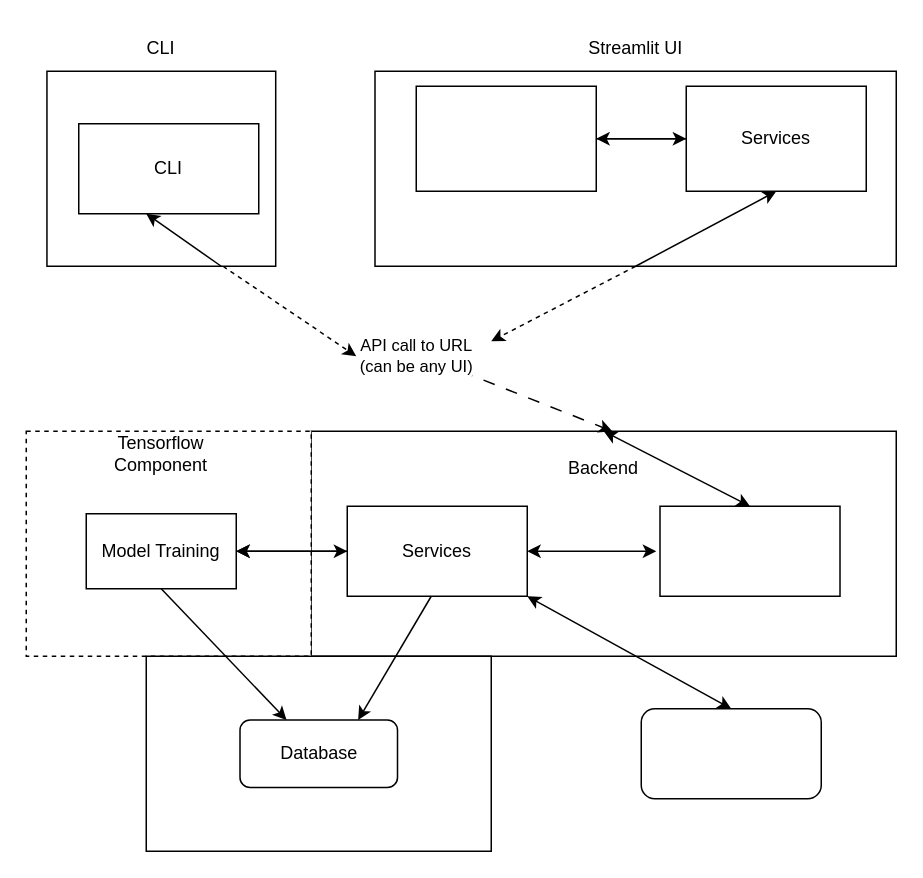
Some shapes in this 923 by 878 pixel diagram are drawn without their labels. The box of each missing label's shape, as (x1, y1, x2, y2) in pixels:
MCU Devices: (640, 707, 821, 799)
Pages: (415, 85, 596, 191)
Routers: (658, 505, 840, 596)
